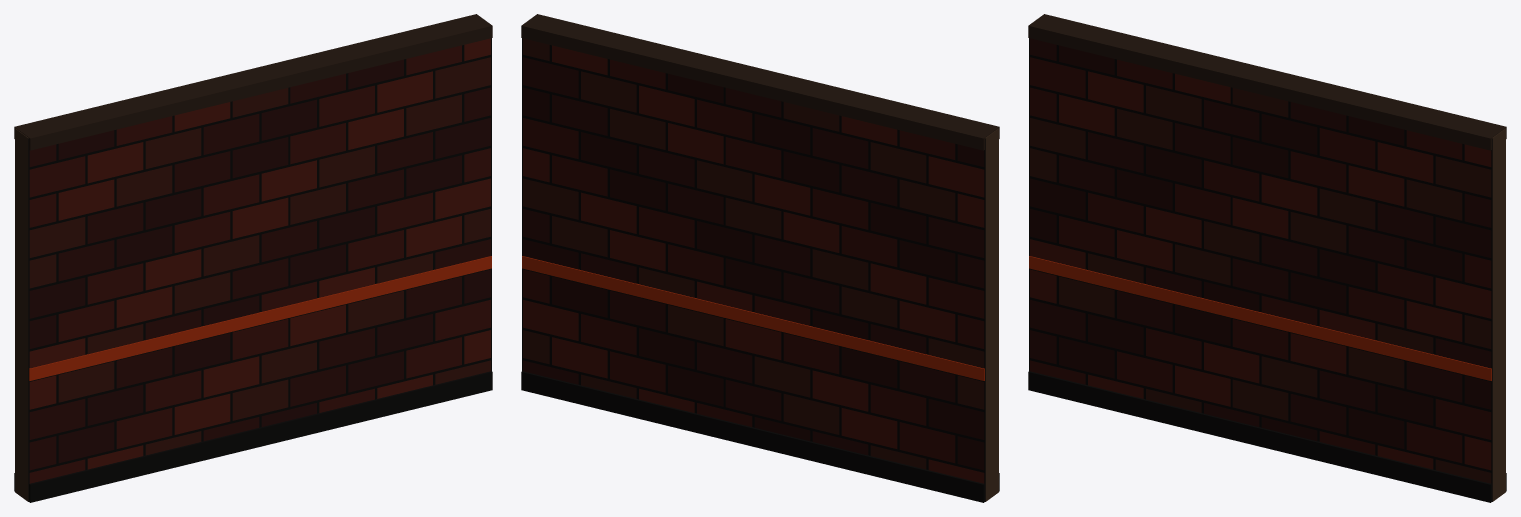
File: SM_Wall_4x3_Hideout.glb
3 renders of one model, left to right at view 1: azimuth 30°, elevation 25°; view 2: azimuth 150°, elevation 25°; view 3: azimuth 330°, elevation 25°, orthographic.
Visible parts, largest first — view 1: SM_Wall_4x3_Hideout-col; view 2: SM_Wall_4x3_Hideout-col; view 3: SM_Wall_4x3_Hideout-col.
Boxes of the visible parts, x1,y1,x2,y2 form: SM_Wall_4x3_Hideout-col: (14, 14, 492, 502); SM_Wall_4x3_Hideout-col: (521, 14, 999, 502); SM_Wall_4x3_Hideout-col: (1028, 14, 1506, 502).
Size of the model in its own units: 4 by 3 by 0.24.
